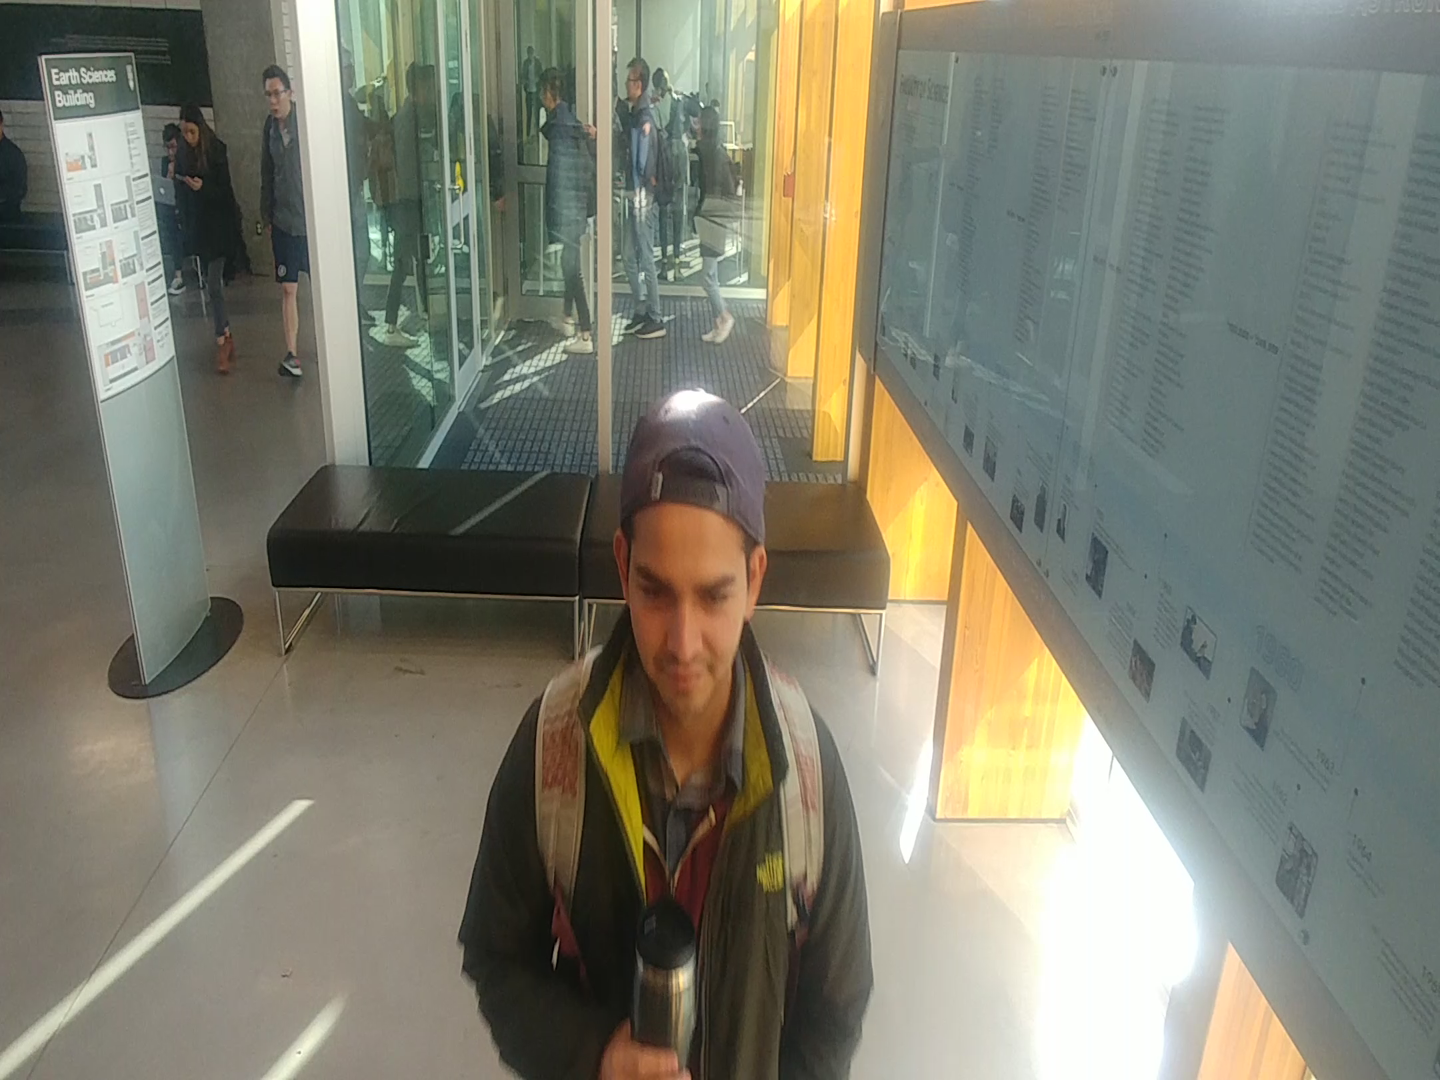face: (597, 380, 795, 727), (525, 59, 580, 121), (254, 56, 296, 131), (168, 91, 216, 150), (690, 93, 734, 154), (616, 53, 656, 113)
human: (443, 379, 887, 1080), (171, 84, 253, 385), (525, 52, 601, 371), (249, 55, 317, 391), (613, 51, 690, 339), (688, 82, 763, 352)
